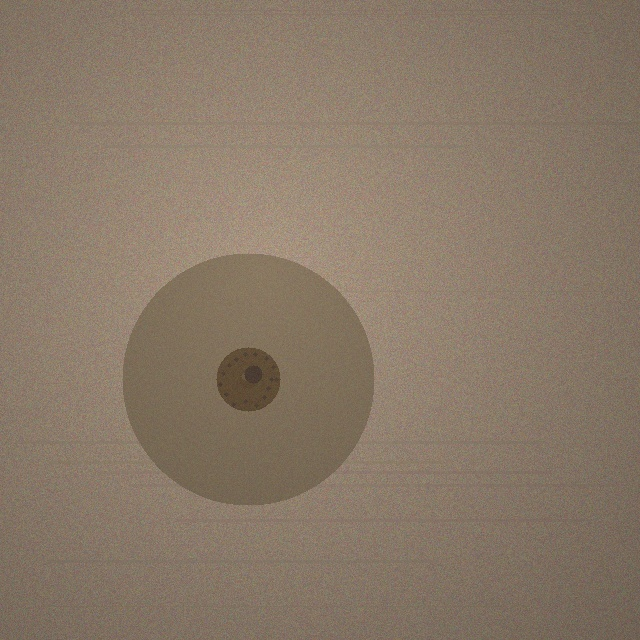cold_weld: (122, 253, 374, 505)
